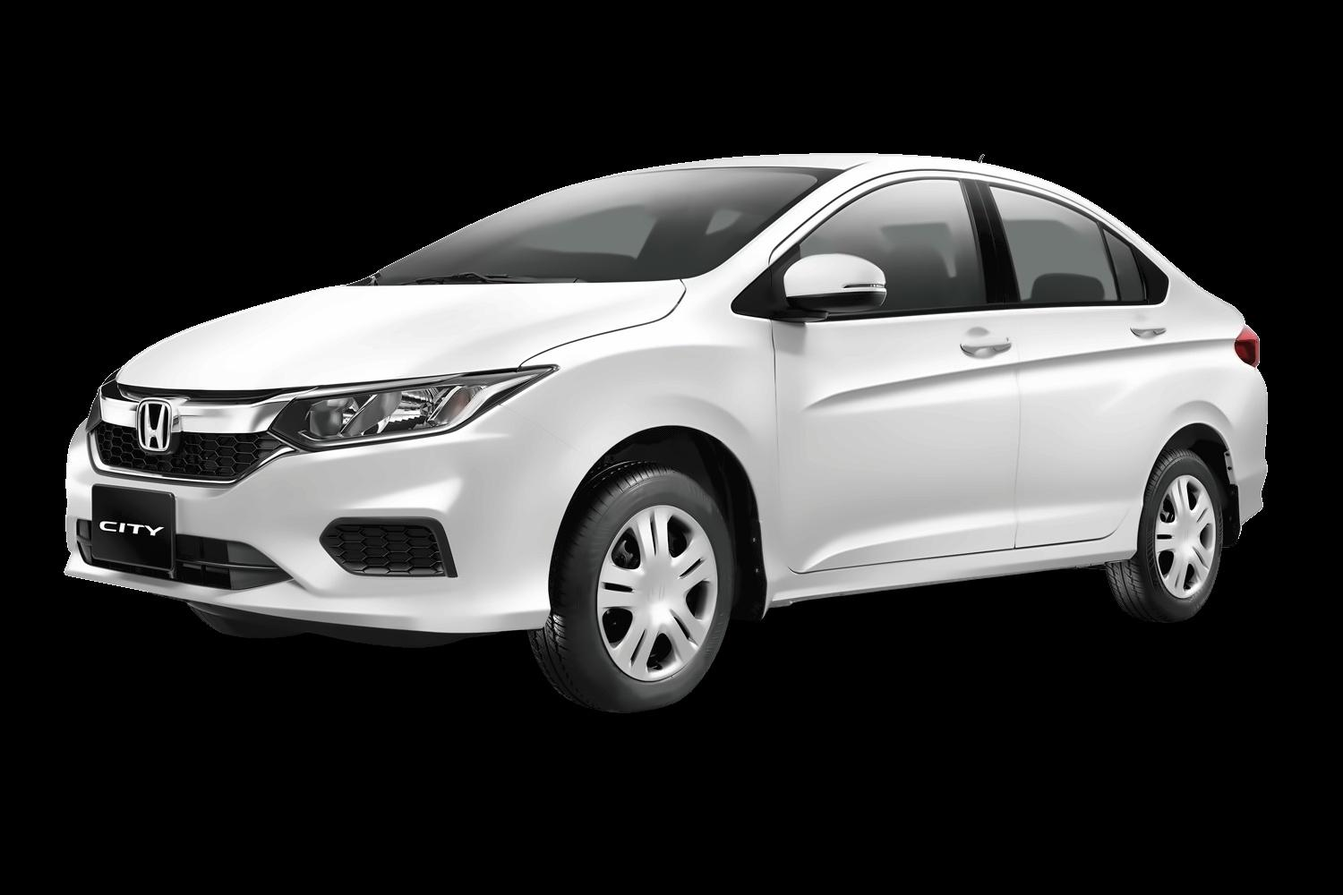Car hood: (108, 276, 690, 396)
Fender - -F-L-: (503, 274, 788, 625)
Fender - -R-L-: (1128, 293, 1253, 569)
Front bumper: (58, 425, 580, 650)
Headlight - -L-: (265, 356, 562, 462)
Passenger-s door - -F-L-: (767, 158, 1021, 573)
Passenger-s door - -R-L-: (990, 157, 1191, 552)
Rear bumper: (1219, 407, 1286, 557)
Rear light - -L-: (1221, 296, 1271, 378)
Side bumper - -L-: (742, 511, 1149, 622)
Side mirror - -L-: (767, 253, 900, 331)
